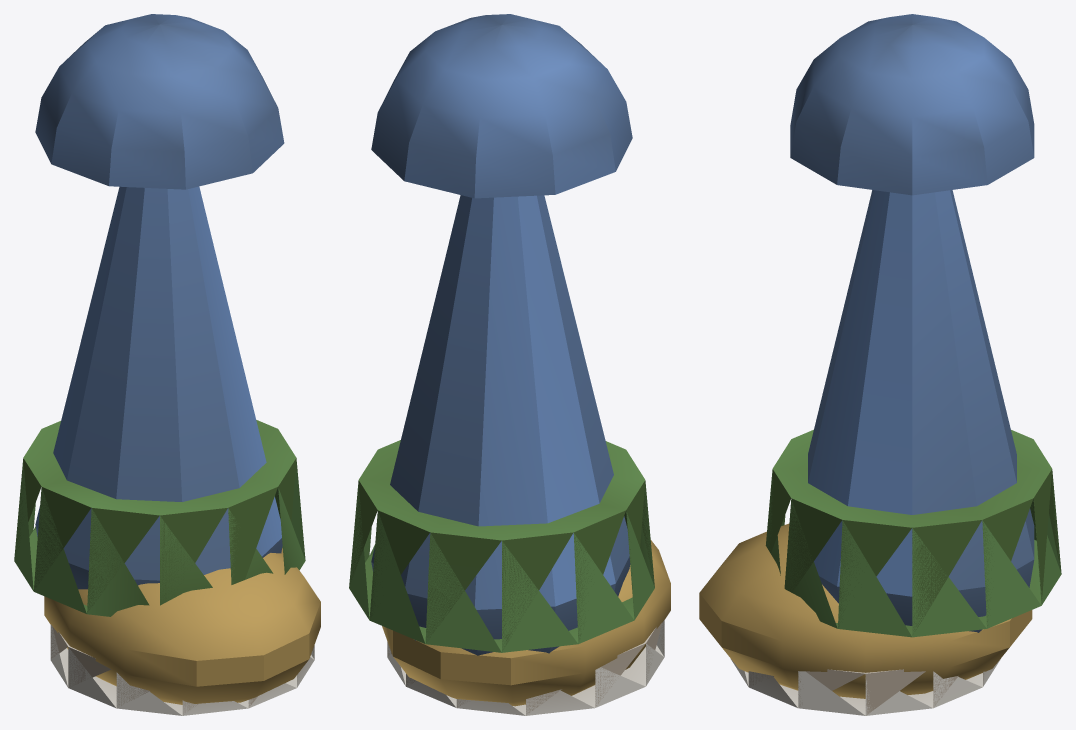
File: p-boy-legR.glb
3 views of the same model, side by side, from view 1: azimuth 30°, elevation 25°; view 2: azimuth 150°, elevation 25°; view 3: azimuth 270°, elevation 25° (orthographic). The views are drawn at different scales.
Visible parts, largest first — view 1: player_p-boy-legR; view 2: player_p-boy-legR; view 3: player_p-boy-legR.
Part boxes in pixels (left/top/right/bottom): player_p-boy-legR: left=14, top=14, right=320, bottom=715; player_p-boy-legR: left=349, top=14, right=670, bottom=715; player_p-boy-legR: left=699, top=14, right=1061, bottom=715.
Size of the model in its own units: 0.128 by 0.311 by 0.1554.
